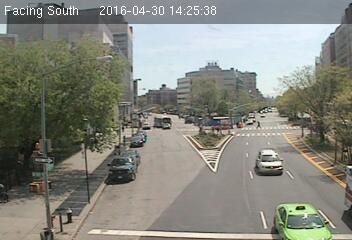neg: (249, 145, 262, 163), (112, 144, 119, 153), (165, 122, 172, 130), (198, 127, 204, 134)
pos: (256, 119, 263, 129), (120, 124, 126, 132)
